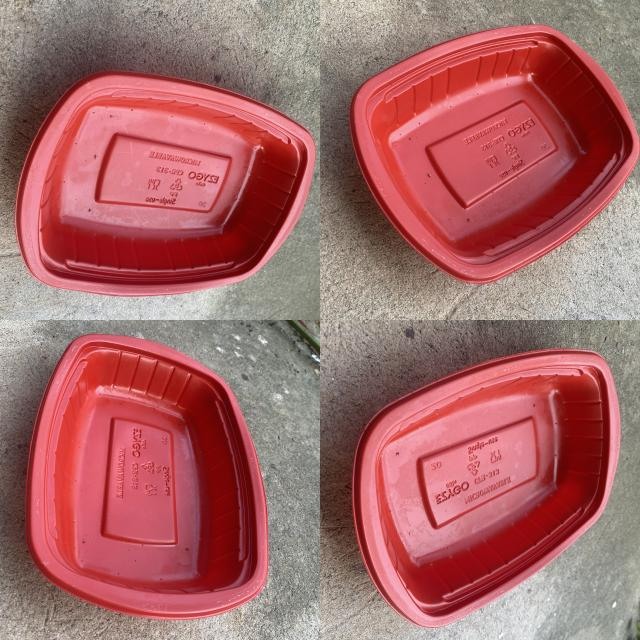Single-Use-Plastic: (350, 25, 639, 283), (352, 350, 620, 628), (26, 335, 268, 618), (16, 71, 315, 296)
